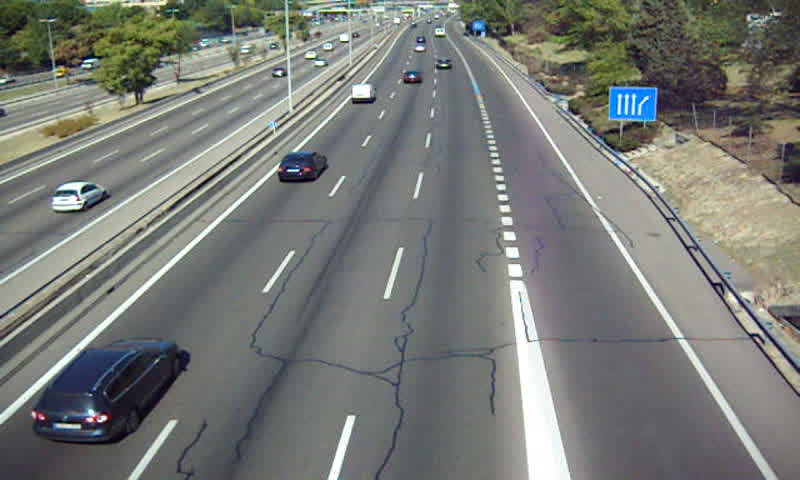car: (31, 338, 182, 443), (276, 153, 327, 181), (402, 69, 422, 85), (433, 58, 453, 72)
van: (351, 84, 374, 103)
